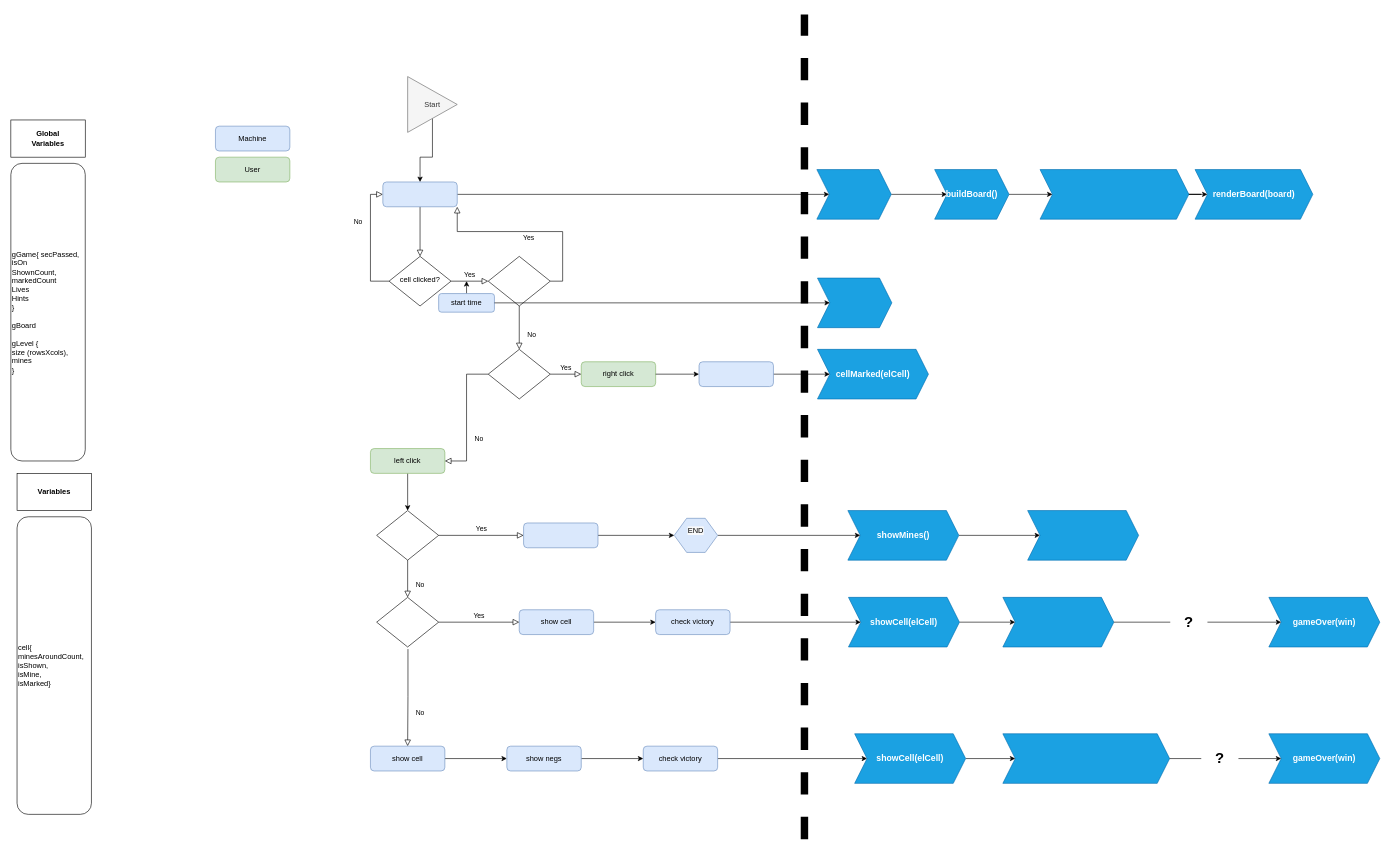
Some shapes in this 1391 by 854 pixel diagram are drawn without their labels. The shapes that lost their labels are listed below. From the top down, each one's centre as x and y in pixels, then its label:
At (x=419, y=194): "Page Load".
At (x=853, y=194): "onInit()".
At (x=1114, y=194): "setMinesNegsCount(board)".
At (x=519, y=281): "cell shown?".
At (x=854, y=302): "startTime()".
At (x=519, y=374): "right click?".
At (x=735, y=374): "mark cell".
At (x=407, y=535): "is mine?".
At (x=560, y=535): "show all mines".
At (x=1083, y=535): "gameOver(lose)".
At (x=407, y=622): "is number?".
At (x=1058, y=622): "checkVictory()".
At (x=1086, y=758): "expandShown(board, elCell, i, j".
